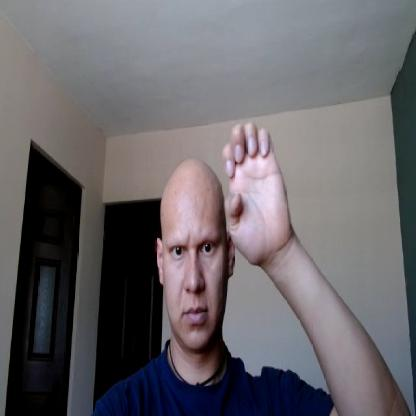E: (223, 120, 290, 262)
